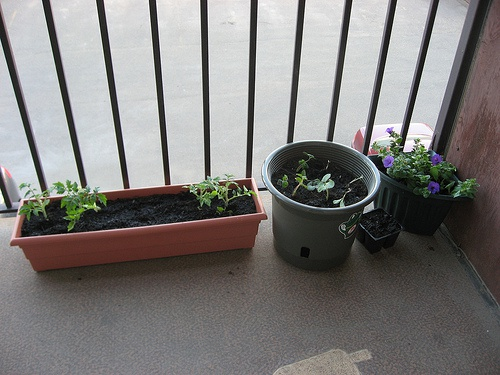flowerpot: (261, 140, 381, 272)
